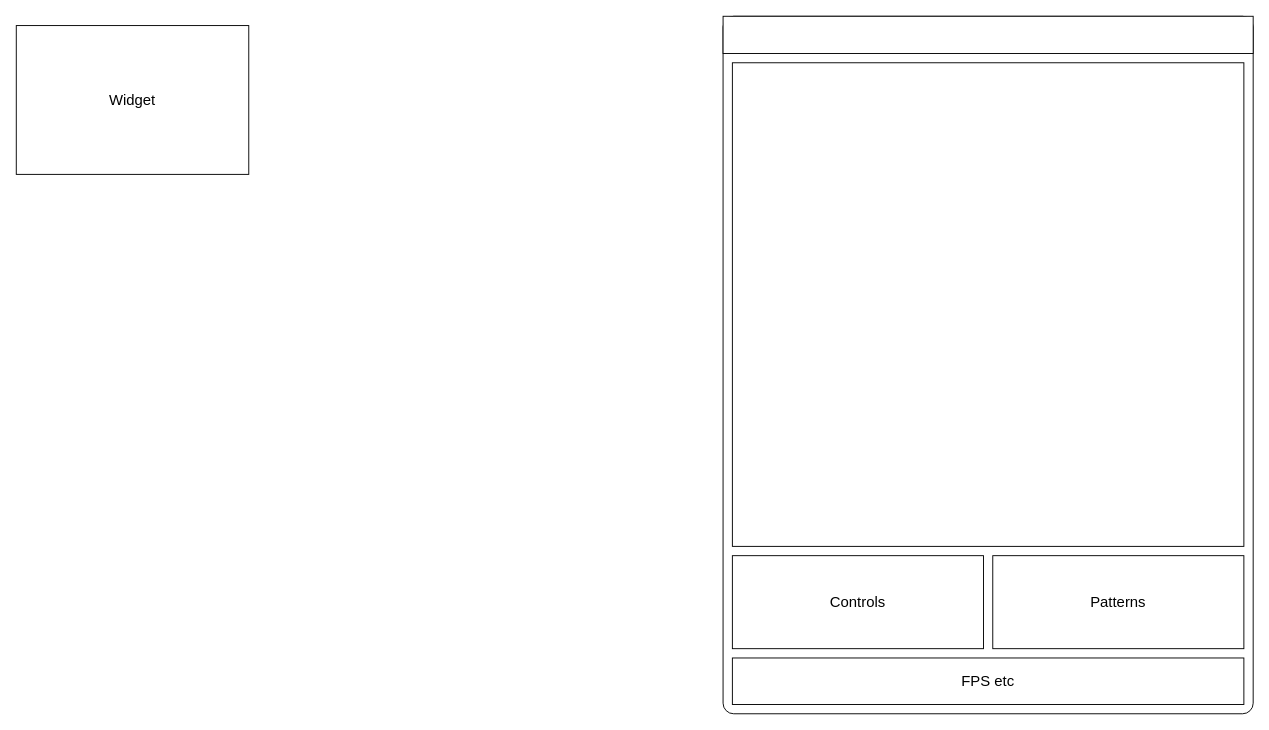
The diagram is 1269 pixels wide and 730 high, and some of its shapes have lost their labels. Here are the shapes that lost their labels. From the top down, the centre of each, then its label:
point 987,34: Windows controls
point 987,304: Grid
